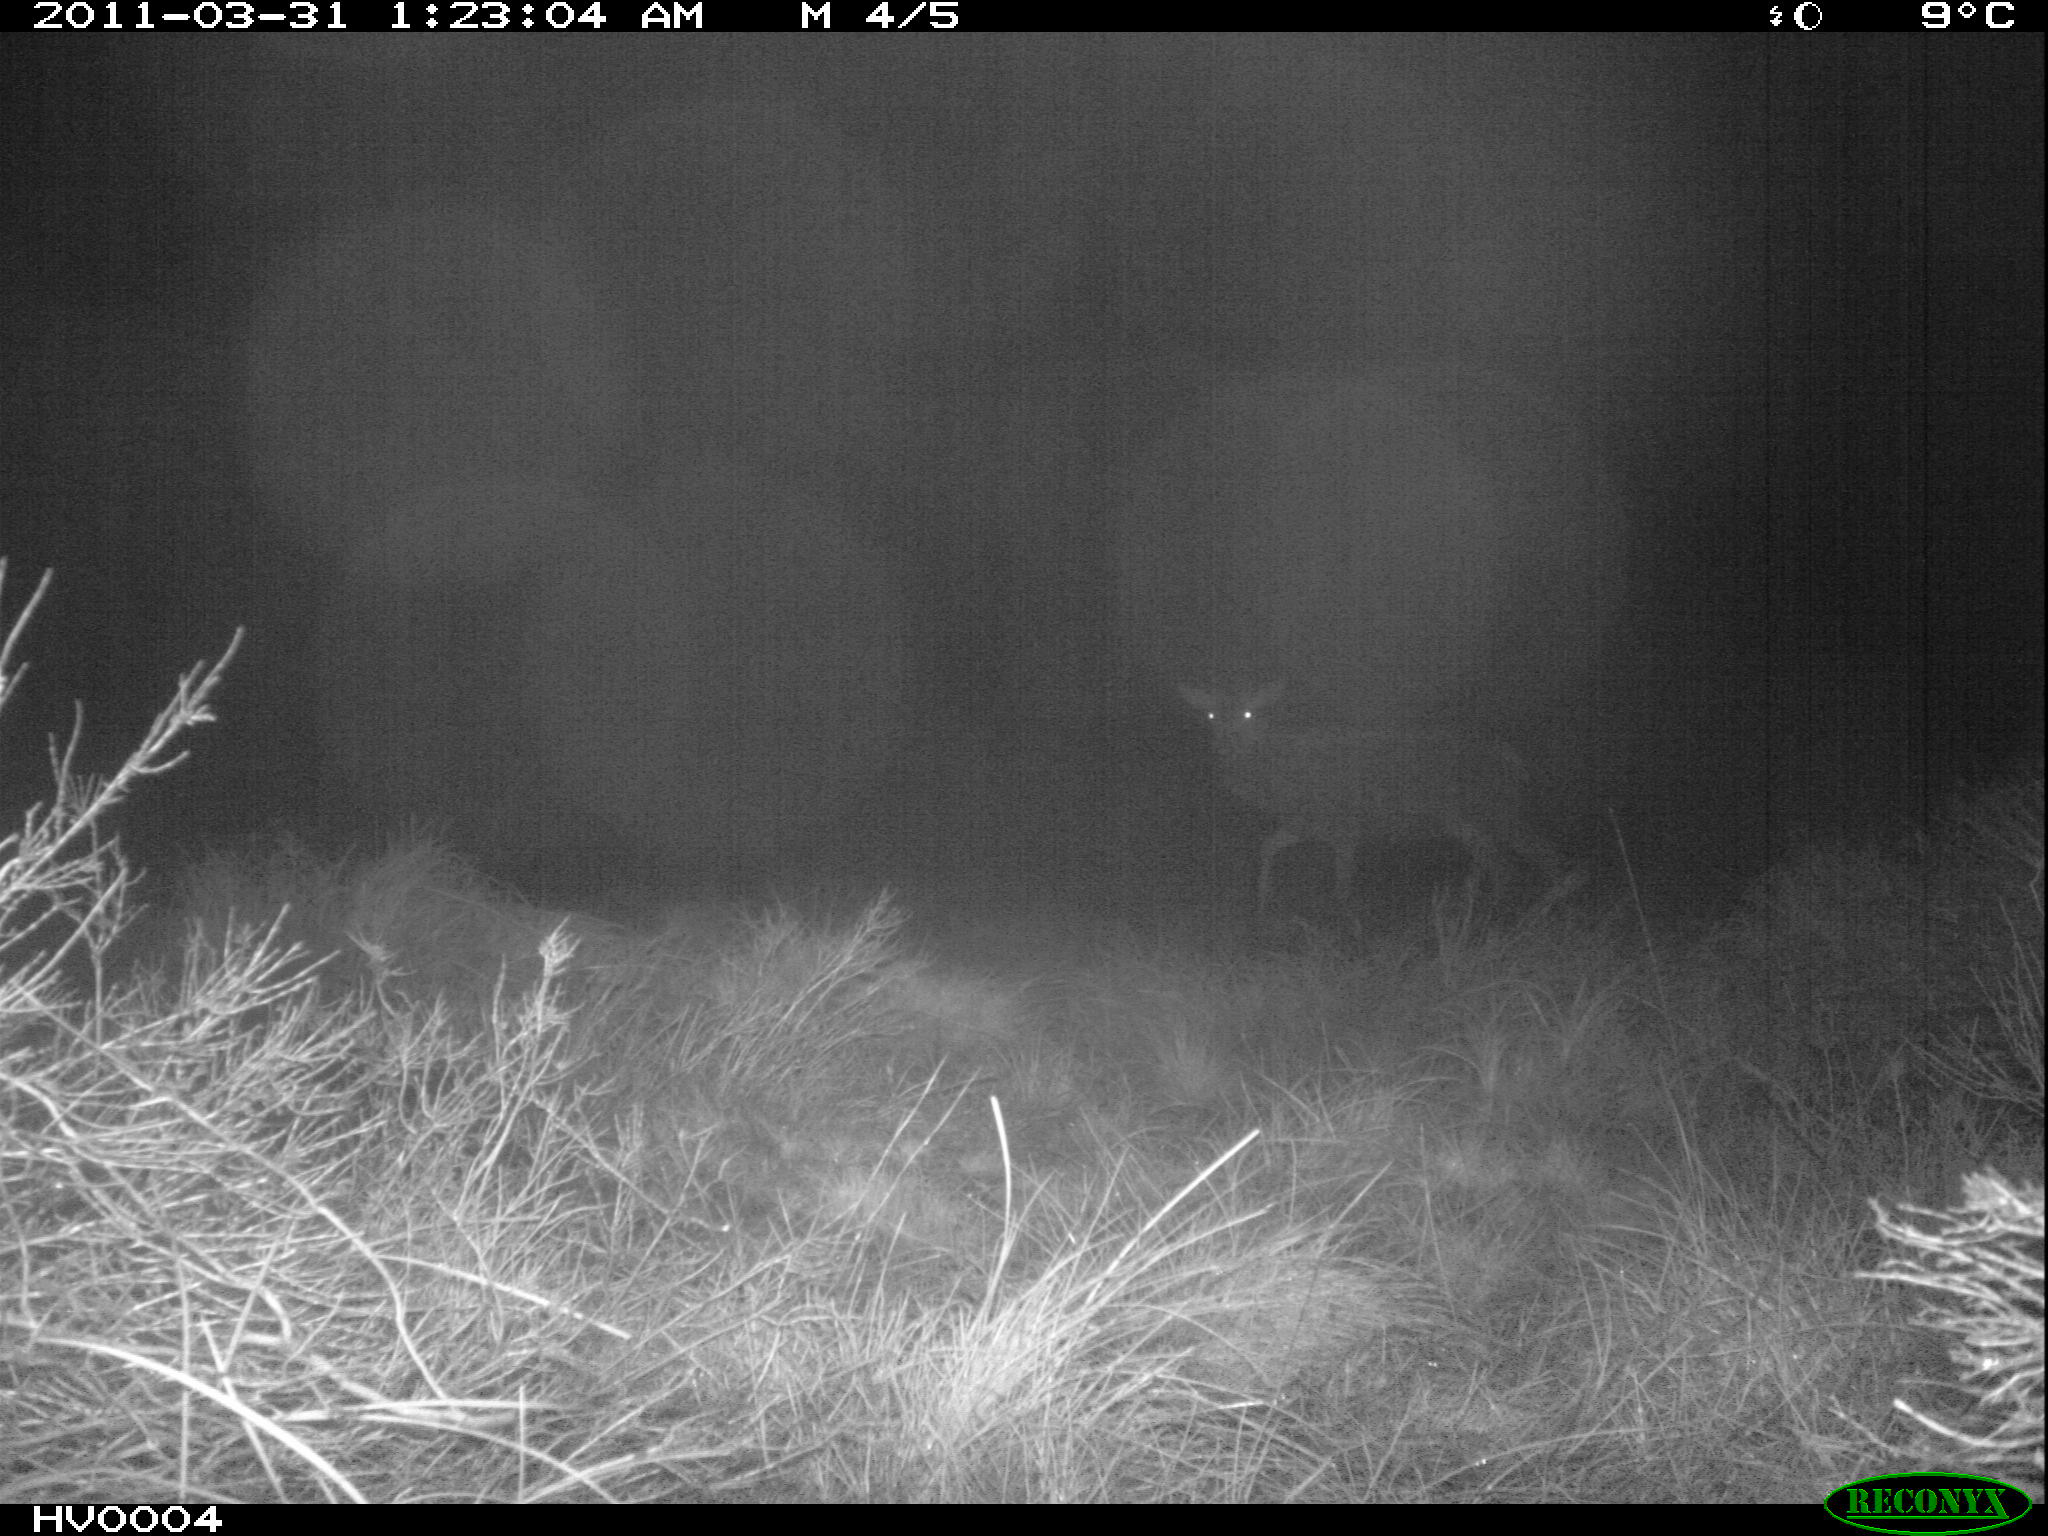Deer: (1174, 663, 1585, 936)
